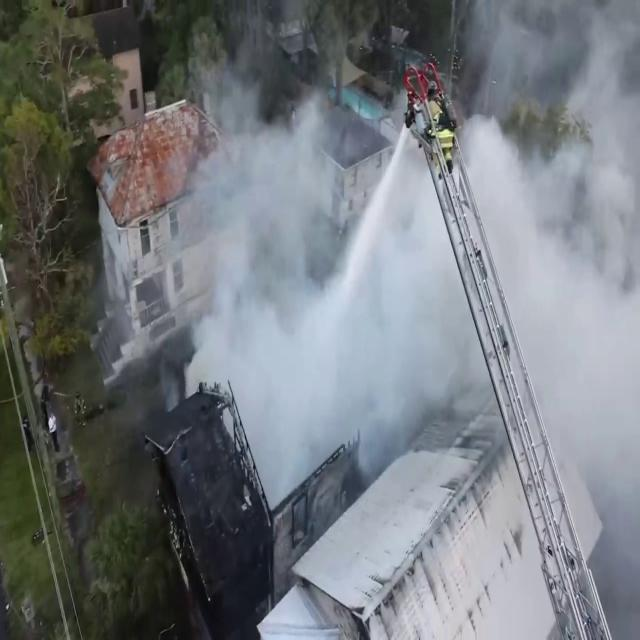Smoke: (192, 287, 348, 513)
